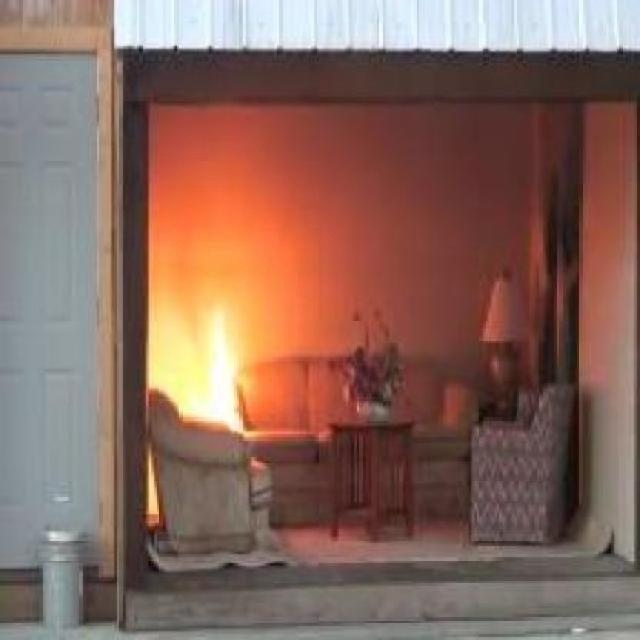fire: (166, 289, 263, 435)
